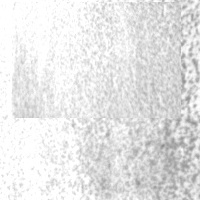pitted_surface: (78, 1, 200, 200), (12, 2, 181, 118), (12, 4, 74, 199)
